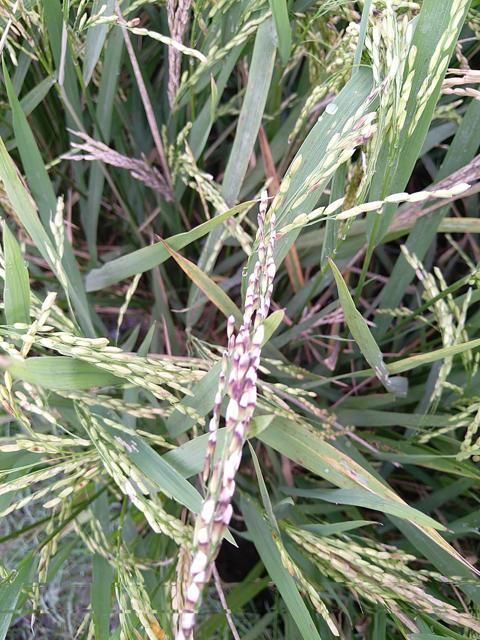Panicle Blight: (181, 191, 275, 639), (389, 151, 479, 239), (398, 585, 479, 637), (346, 110, 379, 164), (385, 600, 420, 639)
